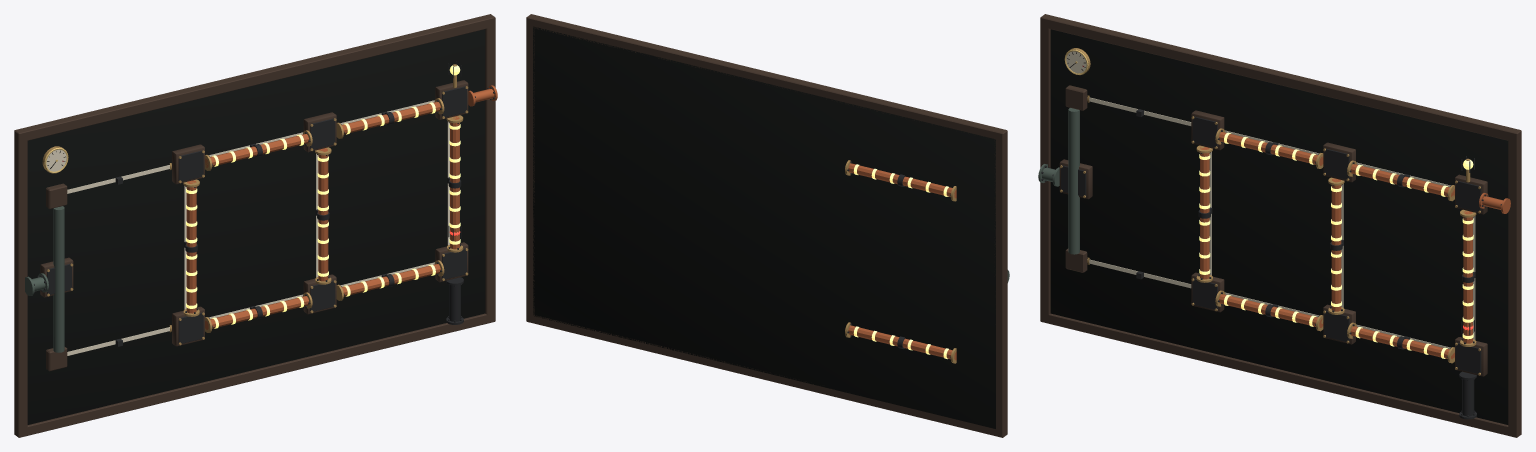
Rendered from pipe_run.glb.
The picture shows the model from 3 angles, left to right: view 1: azimuth 30°, elevation 25°; view 2: azimuth 150°, elevation 25°; view 3: azimuth 330°, elevation 25°; orthographic projection.
Parts seen in each view (by area): view 1: pipe_board, IA_pipe_cd, IA_pipe_ab, IA_pipe_th, IA_pipe_ct, IA_pipe_dh, IA_pipe_ac, IA_pipe_bd; view 2: pipe_board, IA_pipe_sb, IA_pipe_sa; view 3: pipe_board, IA_pipe_cd, IA_pipe_ab, IA_pipe_th, IA_pipe_bd, IA_pipe_ac, IA_pipe_ct, IA_pipe_dh.
Boxes of the visible parts, <box> form: pipe_board: <box>14,14,497,437</box>; IA_pipe_cd: <box>315,147,331,284</box>; IA_pipe_ab: <box>183,179,199,316</box>; IA_pipe_th: <box>446,115,463,252</box>; IA_pipe_ct: <box>336,98,444,138</box>; IA_pipe_dh: <box>336,260,444,300</box>; IA_pipe_ac: <box>205,130,312,170</box>; IA_pipe_bd: <box>205,292,312,332</box>; pipe_board: <box>526,14,1009,437</box>; IA_pipe_sb: <box>845,322,956,363</box>; IA_pipe_sa: <box>845,160,956,201</box>; pipe_board: <box>1038,14,1521,437</box>; IA_pipe_cd: <box>1328,177,1344,314</box>; IA_pipe_ab: <box>1196,145,1212,282</box>; IA_pipe_th: <box>1460,209,1476,346</box>; IA_pipe_bd: <box>1215,290,1323,331</box>; IA_pipe_ac: <box>1215,128,1323,168</box>; IA_pipe_ct: <box>1347,160,1454,201</box>; IA_pipe_dh: <box>1347,322,1454,363</box>.
Bounding box in the file's own units: 3.08 × 1.88 × 0.196.
